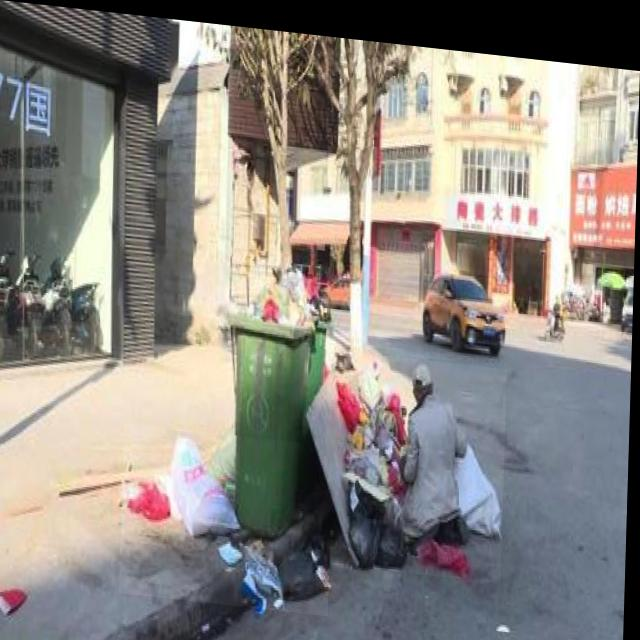garbage: (304, 340, 508, 571), (123, 420, 336, 608)
overflow: (226, 251, 332, 533)
